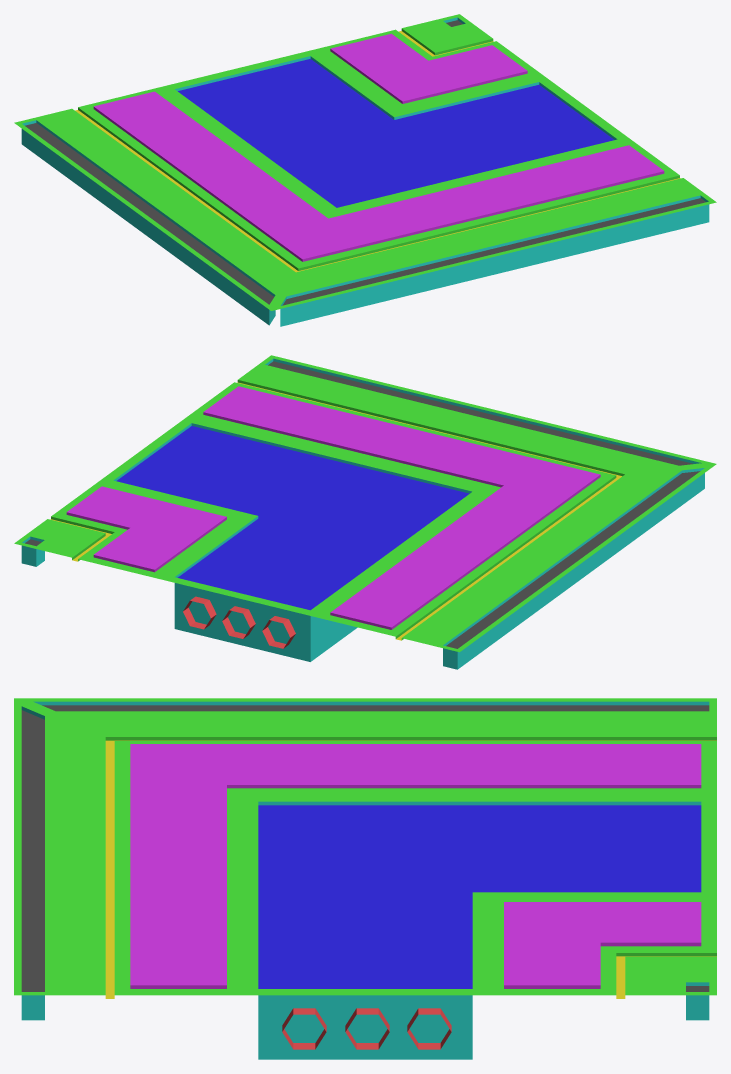
The model's file is Floor_12_Corner.fbx.
The picture shows the model from 3 angles, top to bottom: view 1: azimuth 30°, elevation 25°; view 2: azimuth 150°, elevation 25°; view 3: azimuth 270°, elevation 25°; orthographic projection. The views are drawn at different scales.
Parts seen in each view (by area): view 1: Floor_12_Corner; view 2: Floor_12_Corner; view 3: Floor_12_Corner.
Boxes of the visible parts, <box> form: Floor_12_Corner: <box>14,14,716,326</box>; Floor_12_Corner: <box>14,355,716,669</box>; Floor_12_Corner: <box>14,698,716,1059</box>.
Bounding box in the file's own units: 229 × 26.67 × 229.
